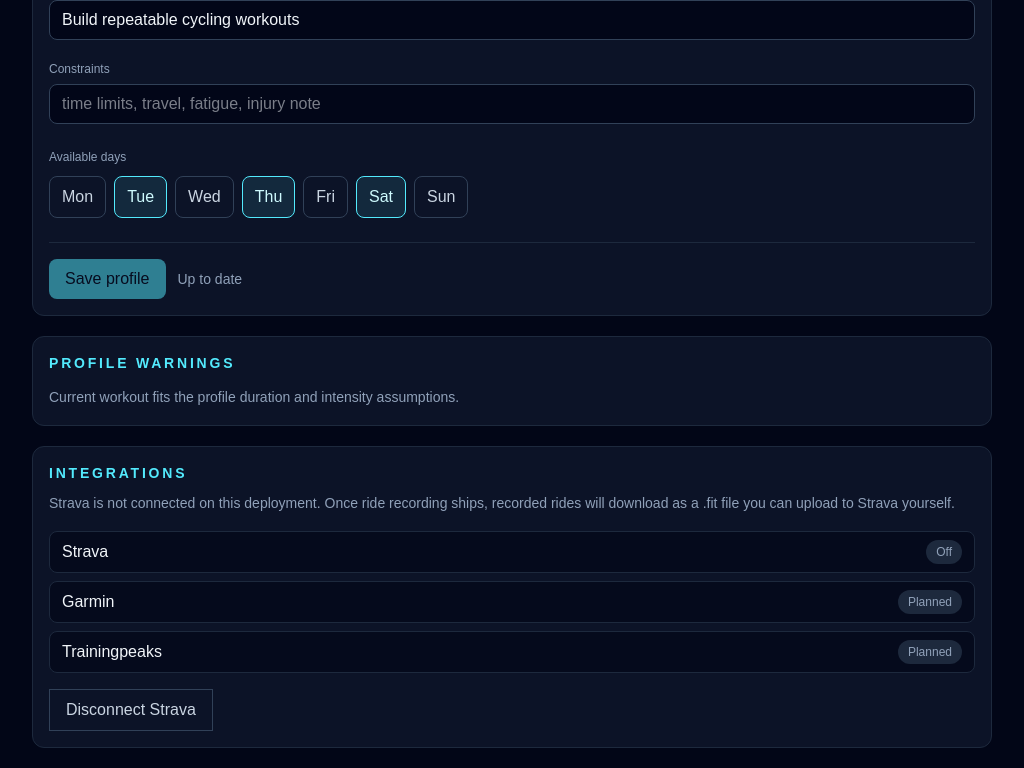
Test: ProfileSettings Strava disconnect while Strava is off › offers only a disconnect control for a stored connection and removes it
(page scrolled)
Click the button "Disconnect Strava". click: (131, 710)
box: [49,689,213,731]
(page scrolled)
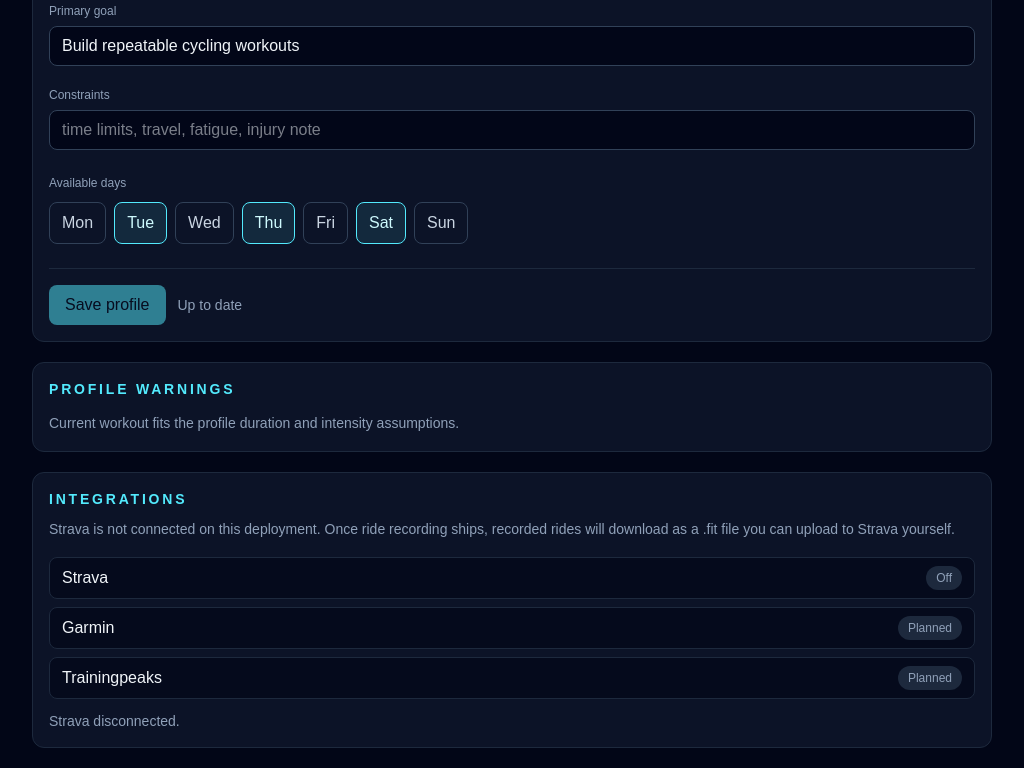
Check: the text "Strava disconnected." is shown, box [49,713,180,729]
Check: the button "Disconnect Strava" is gone
